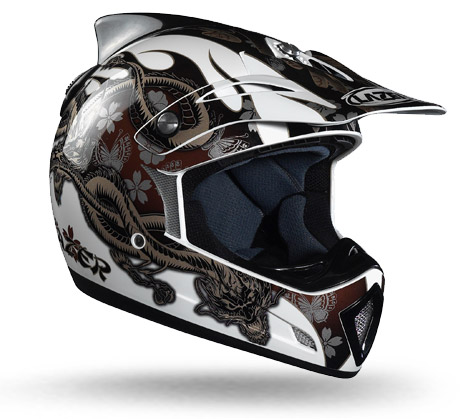helmet: (53, 28, 408, 351)
